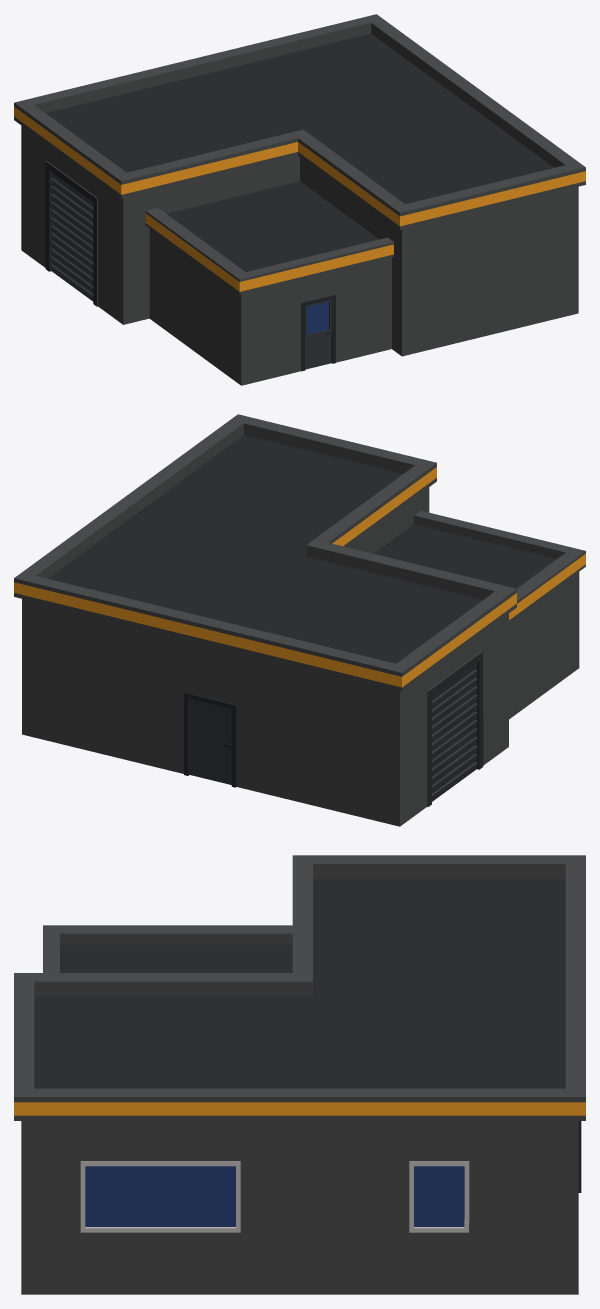
The model's file is AutoPair_1.fbx.
3 views of the same model, one above another, from view 1: azimuth 30°, elevation 25°; view 2: azimuth 150°, elevation 25°; view 3: azimuth 270°, elevation 25° (orthographic). The views are drawn at different scales.
Parts seen in each view (by area): view 1: AutoPair_1; view 2: AutoPair_1; view 3: AutoPair_1.
Boxes of the visible parts, bbox=[...] form: AutoPair_1: bbox=[14, 14, 585, 385]; AutoPair_1: bbox=[14, 414, 585, 826]; AutoPair_1: bbox=[14, 855, 585, 1294].
Bounding box in the file's own units: 636 × 246 × 636.
